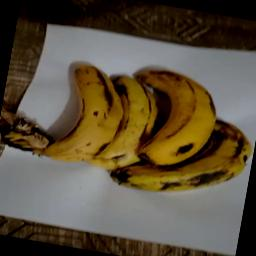Banana Unripe: (12, 54, 128, 170), (124, 58, 227, 176), (98, 66, 164, 186)
